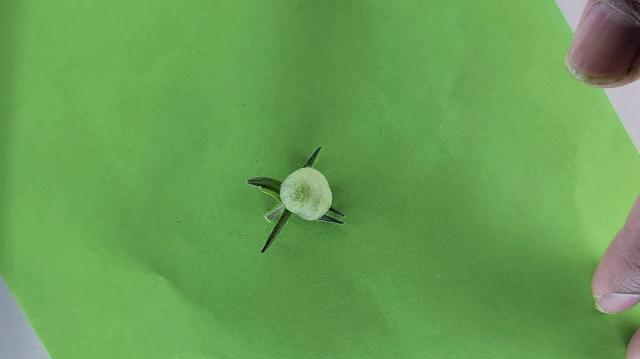Fruit Maturation: (279, 168, 333, 221)
